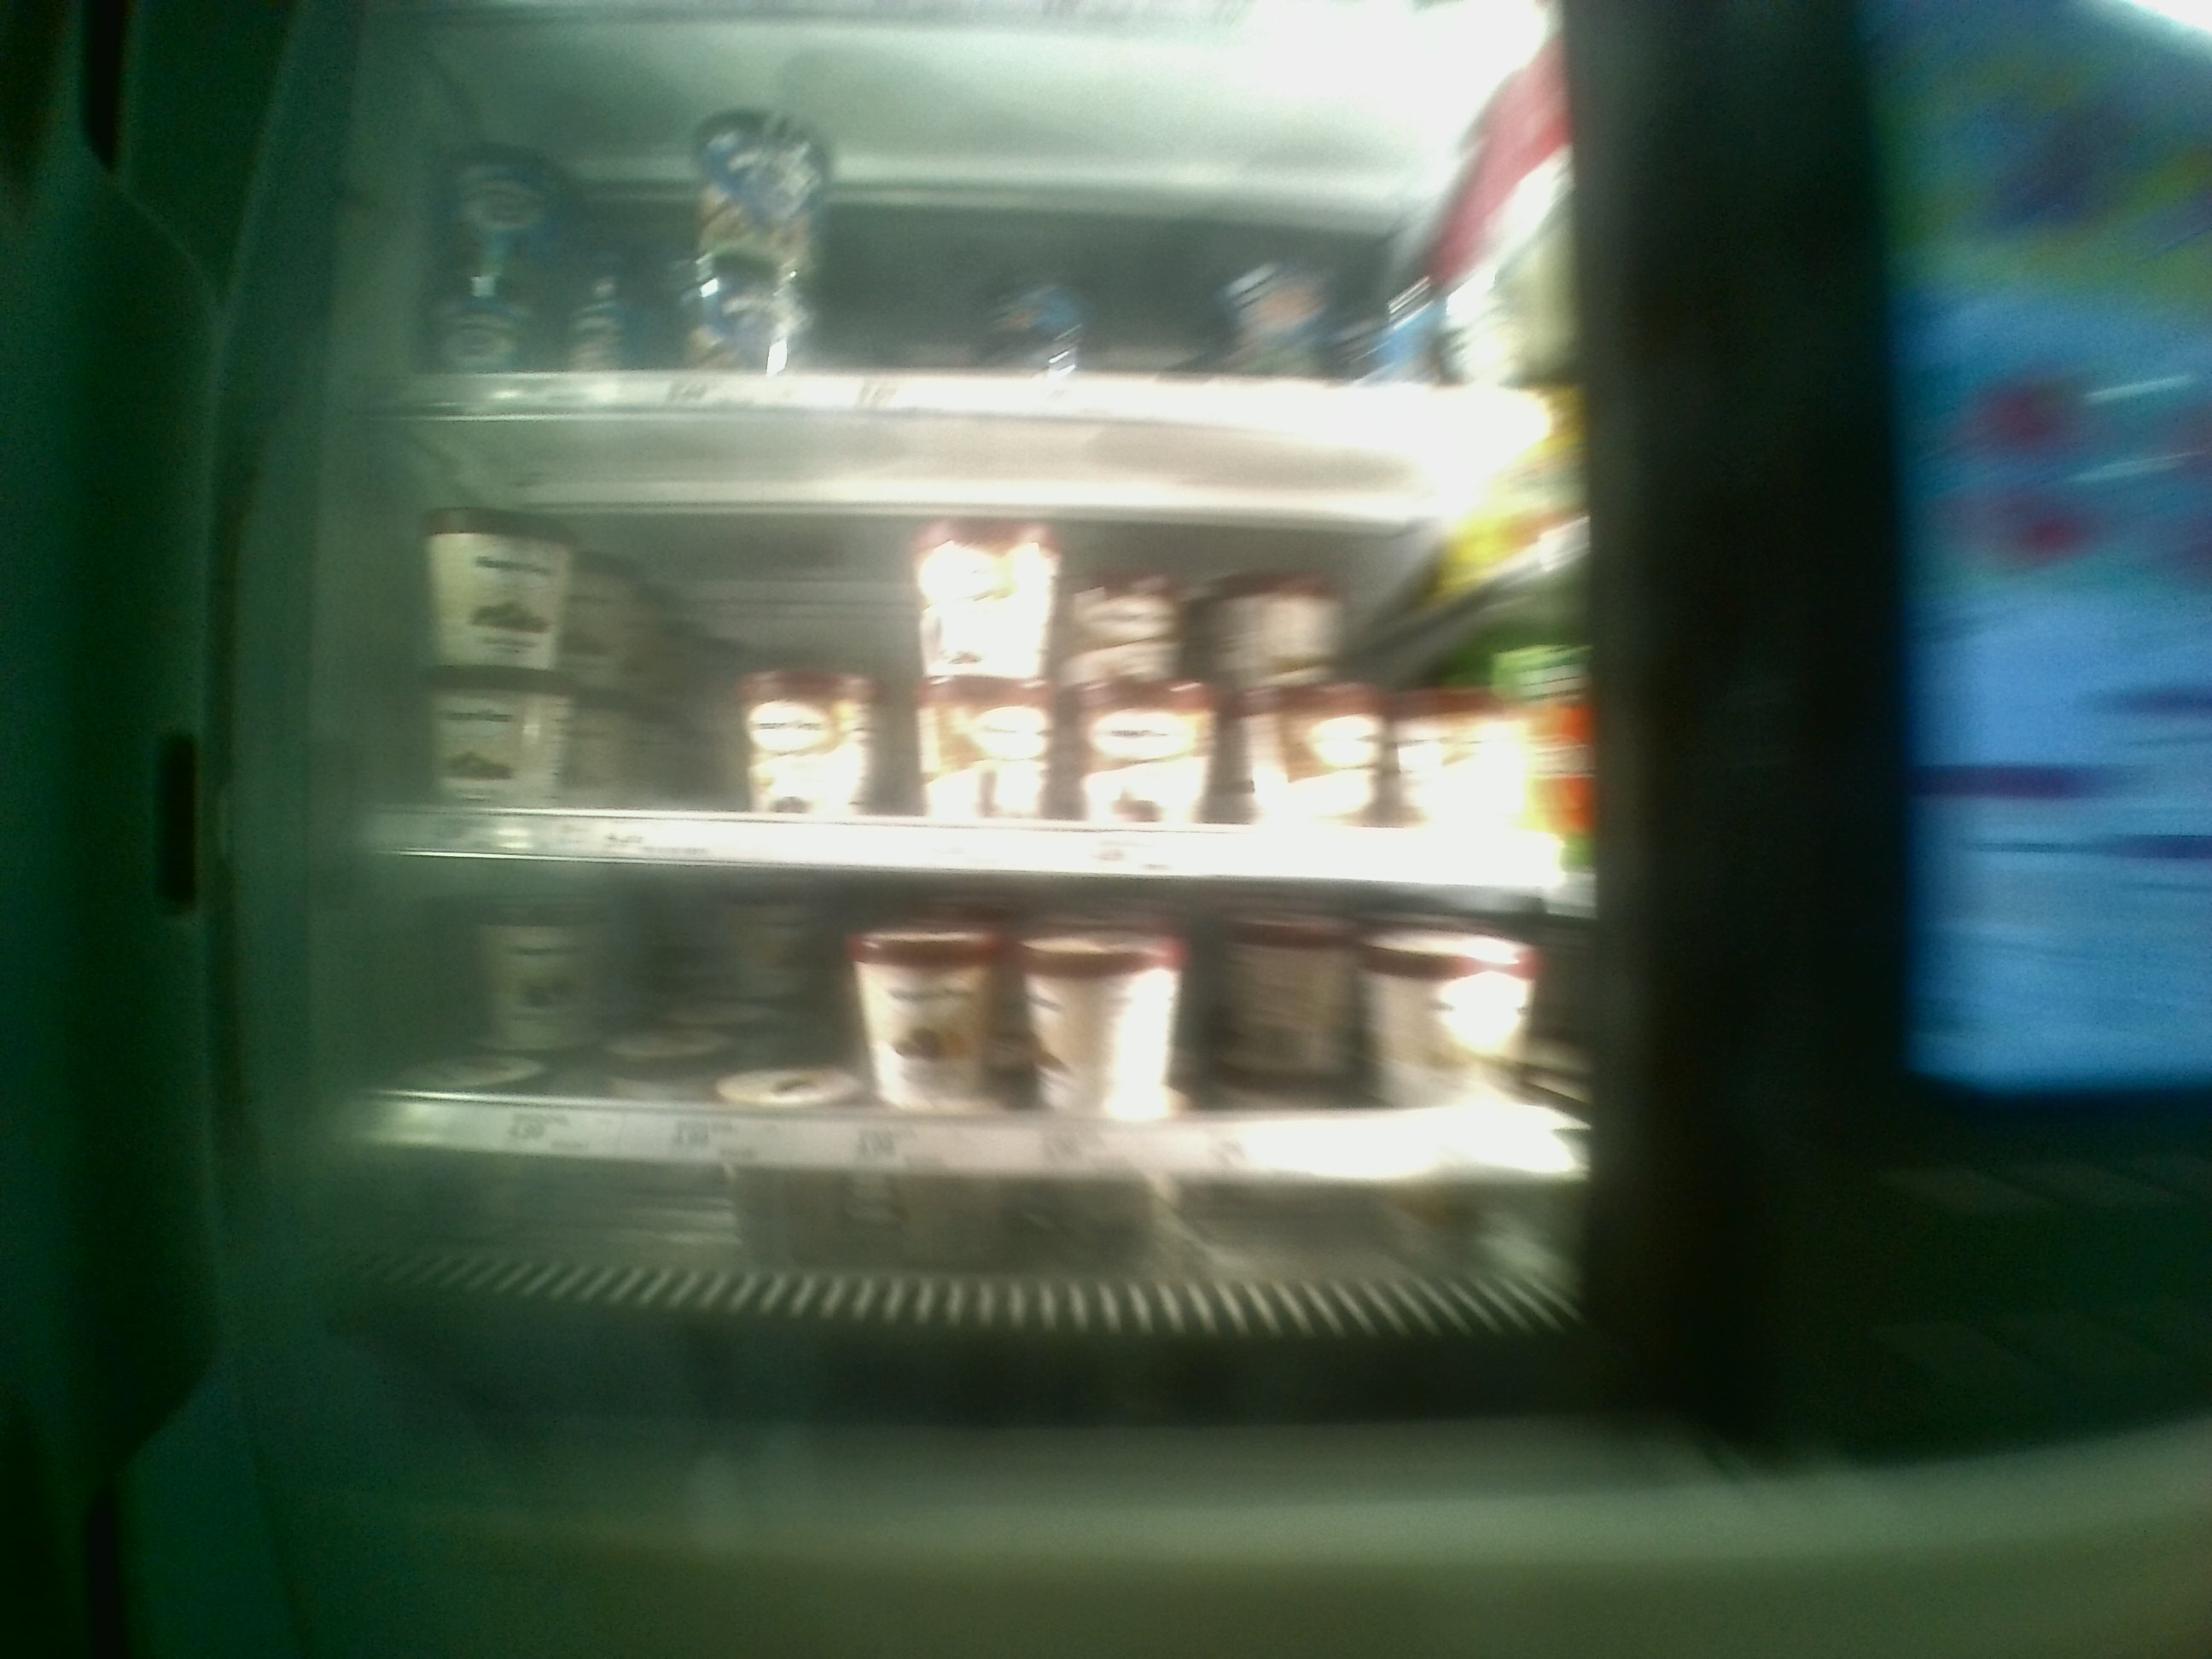shelf: (376, 403, 1606, 887), (361, 863, 1609, 1298)
